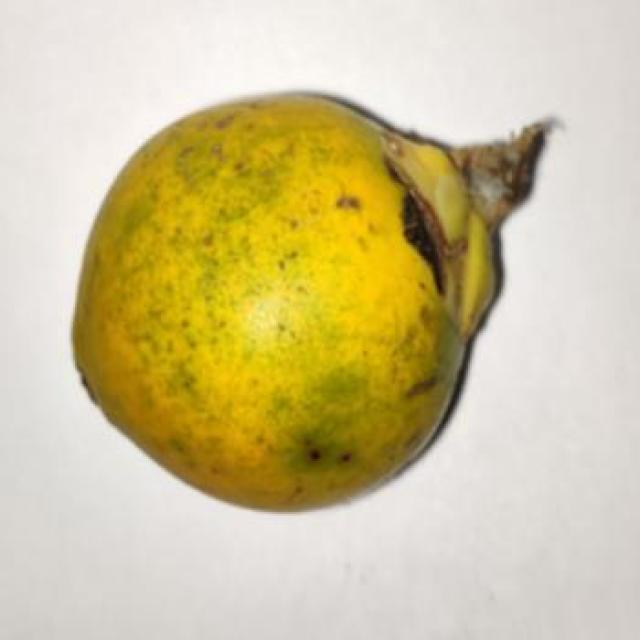good: (73, 93, 552, 508)
